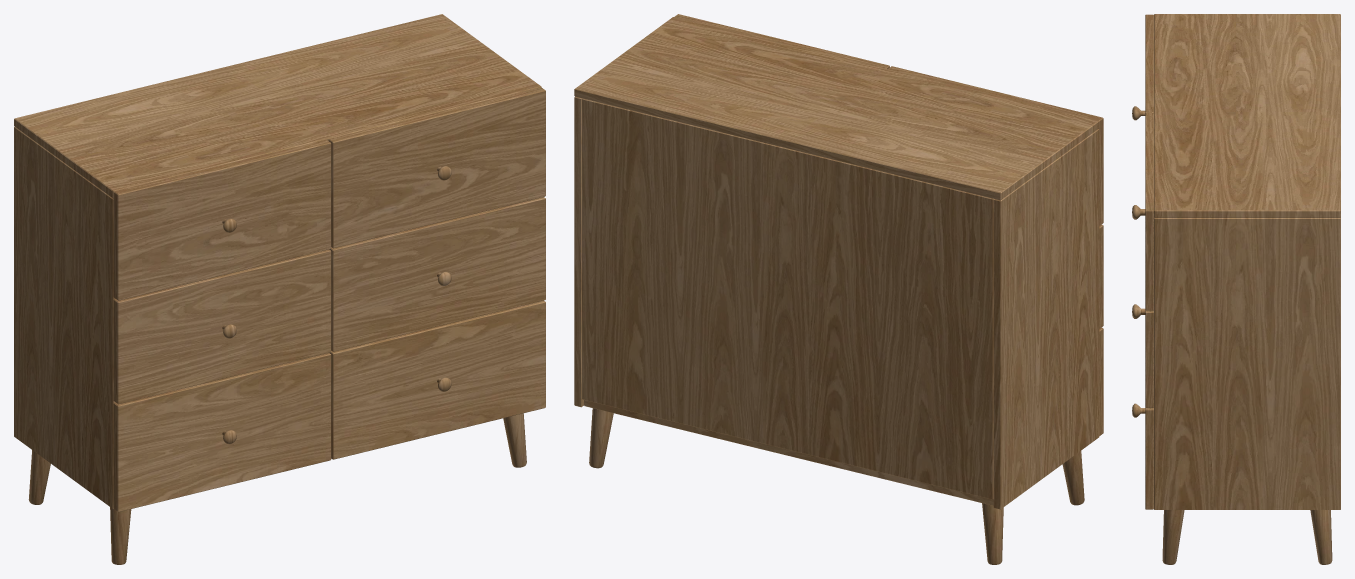
File: comoda_roble_100.glb
3 renders of one model, left to right at view 1: azimuth 30°, elevation 25°; view 2: azimuth 150°, elevation 25°; view 3: azimuth 270°, elevation 25°, orthographic. The views are drawn at different scales.
Parts seen in each view (by area): view 1: comoda_roble_100; view 2: comoda_roble_100; view 3: comoda_roble_100.
Boxes of the visible parts, box(x1,y1,x2,y2) form: comoda_roble_100: box(14, 14, 545, 564); comoda_roble_100: box(574, 14, 1103, 564); comoda_roble_100: box(1132, 14, 1340, 564).
Bounding box in the file's own units: 1 × 0.8511 × 0.448.
1 material, 1 textured.
